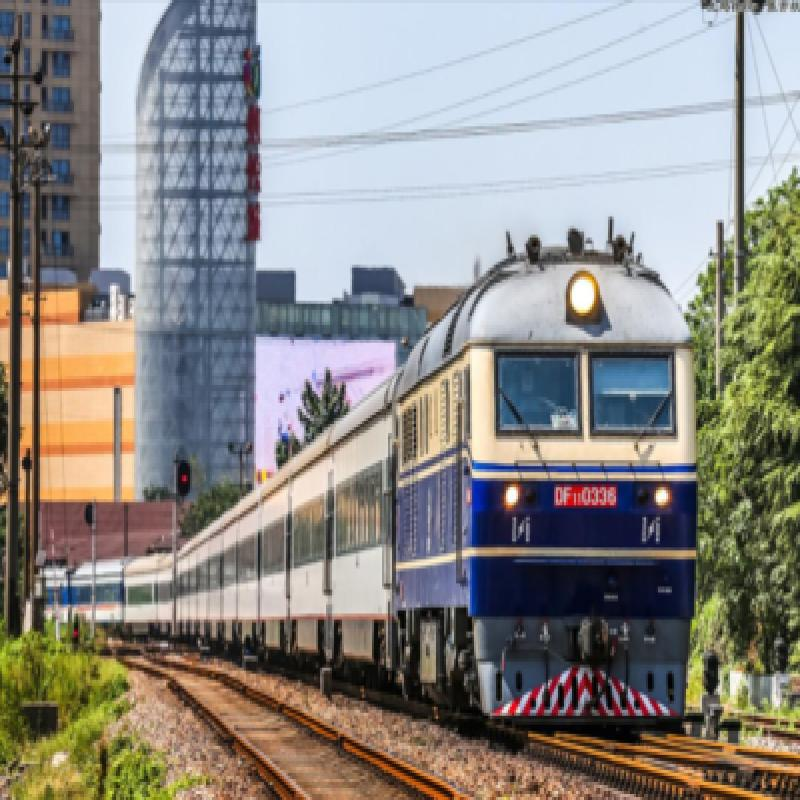train: (389, 208, 699, 735)
